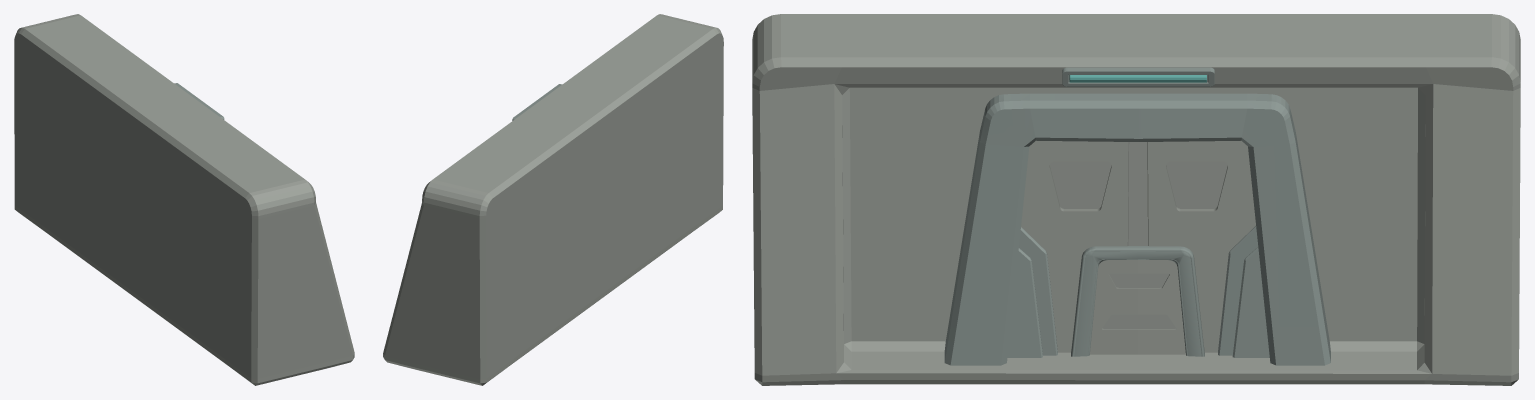
The model's file is Env_Door_SpaceStation_1x4.fbx.
The picture shows the model from 3 angles, left to right: view 1: azimuth 30°, elevation 25°; view 2: azimuth 150°, elevation 25°; view 3: azimuth 270°, elevation 25°; orthographic projection. The views are drawn at different scales.
Parts seen in each view (by area): view 1: Env_Door_SpaceStation_1x4; view 2: Env_Door_SpaceStation_1x4; view 3: Env_Door_SpaceStation_1x4.
Part boxes in pixels (bbox=[...]): Env_Door_SpaceStation_1x4: bbox=[14, 14, 354, 385]; Env_Door_SpaceStation_1x4: bbox=[383, 14, 723, 385]; Env_Door_SpaceStation_1x4: bbox=[752, 14, 1520, 385].
Bounding box in the file's own units: 98.93 × 172 × 401.
